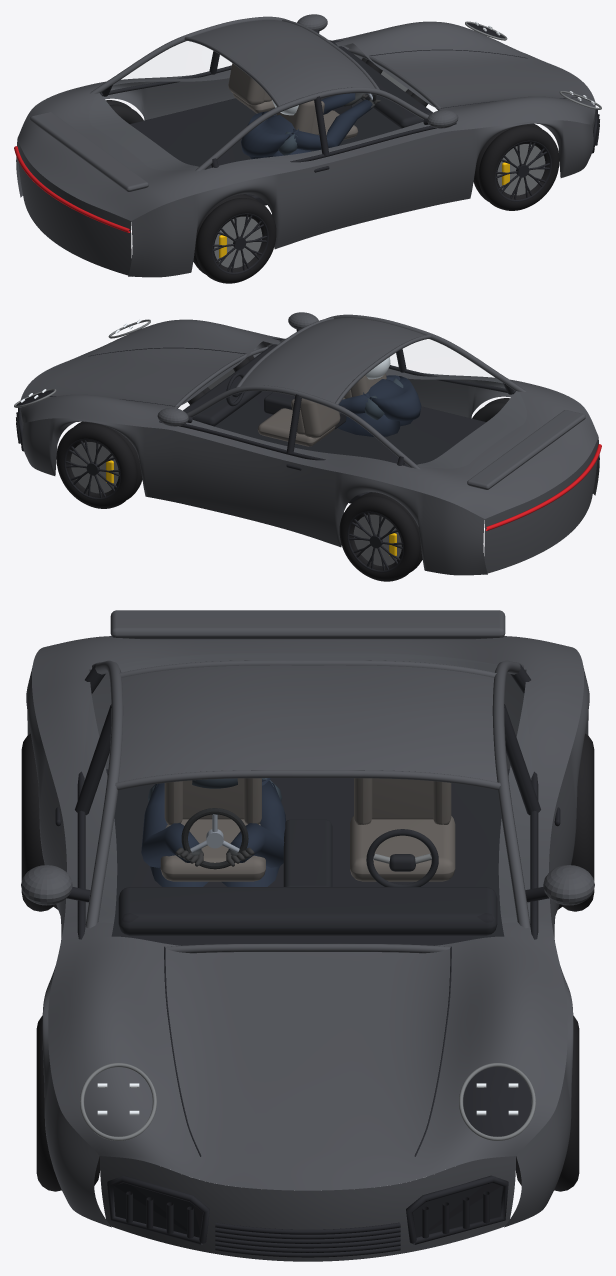
File: porsche-911.glb
3 renders of one model, top to bottom at view 1: azimuth 30°, elevation 25°; view 2: azimuth 150°, elevation 25°; view 3: azimuth 270°, elevation 25°, orthographic. The views are drawn at different scales.
Visible parts, largest first — view 1: Aleta y puerta.001, Carroceria, Carroceria.003, Cubierta coupe.001, Suelo interior, Paragolpes.001, Carroceria.002, Aleta y puerta, Neumatico.007, Neumatico.005, Aleron trasero, Marco superior.001 (+23 smaller); view 2: Aleta y puerta, Carroceria, Carroceria.003, Cubierta coupe.001, Suelo interior, Paragolpes.001, Carroceria.001, Neumatico.002, Neumatico, Aleta y puerta.001, Aleron trasero, HorizonPilotV14_one_piece_torso (+25 smaller); view 3: Carroceria, Cubierta coupe.001, Tablero, Suelo interior, Paragolpes, Carroceria.003, Aleron trasero, Carroceria.001, Carroceria.002, Aleta y puerta, Aleta y puerta.001, Banqueta (+39 smaller).
Boxes of the visible parts, box(x1,y1,x2,y2) form: Aleta y puerta.001: box(128, 120, 593, 277); Carroceria: box(341, 21, 595, 129); Carroceria.003: box(17, 86, 219, 220); Cubierta coupe.001: box(191, 20, 375, 105); Suelo interior: box(130, 98, 401, 205); Paragolpes.001: box(17, 139, 131, 275); Carroceria.002: box(205, 121, 463, 187); Aleta y puerta: box(16, 43, 362, 197); Neumatico.007: box(195, 198, 276, 283); Neumatico.005: box(478, 125, 559, 210); Aleron trasero: box(30, 112, 148, 191); Marco superior.001: box(195, 87, 428, 171); Aleta y puerta: box(22, 418, 487, 575); Carroceria: box(20, 319, 274, 427); Carroceria.003: box(396, 384, 598, 518); Cubierta coupe.001: box(240, 318, 424, 403); Suelo interior: box(214, 391, 485, 503); Paragolpes.001: box(484, 437, 598, 573); Carroceria.001: box(152, 419, 410, 485); Neumatico.002: box(339, 496, 420, 581); Neumatico: box(56, 423, 137, 508); Aleta y puerta.001: box(253, 341, 599, 495); Aleron trasero: box(467, 410, 585, 489); HorizonPilotV14_one_piece_torso: box(363, 375, 421, 421); Carroceria: box(48, 936, 567, 1190); Cubierta coupe.001: box(118, 665, 497, 781); Tablero: box(118, 887, 497, 935); Suelo interior: box(106, 769, 509, 945); Paragolpes: box(100, 1156, 515, 1261); Carroceria.003: box(32, 636, 583, 684); Aleron trasero: box(110, 610, 505, 639); Carroceria.001: box(498, 669, 583, 946); Carroceria.002: box(32, 669, 117, 946); Aleta y puerta: box(504, 666, 589, 1227); Aleta y puerta.001: box(26, 666, 111, 1227); Banqueta: box(350, 816, 455, 881).
Size of the model in its own units: 4.55 by 1.27 by 2.12.
